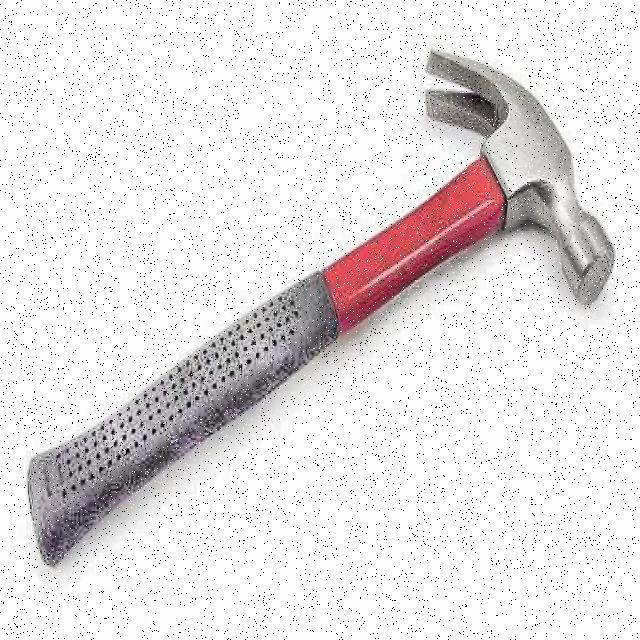hammer: (20, 43, 618, 574)
